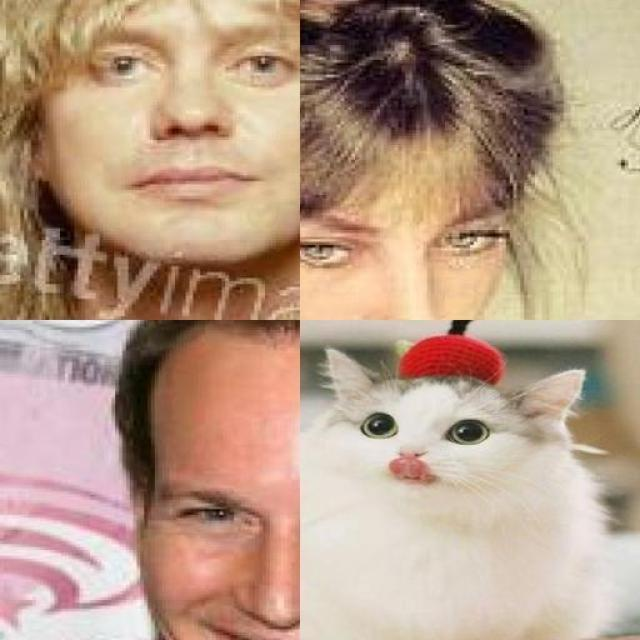bareface: (35, 3, 306, 248)
